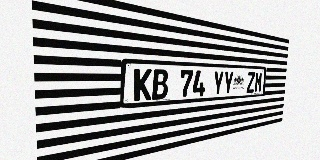4: (193, 70, 206, 97)
7: (179, 70, 193, 98)
B: (152, 69, 168, 100)
K: (134, 68, 152, 101)
M: (254, 72, 263, 92)
Y: (212, 71, 224, 95), (223, 71, 234, 95)
Z: (246, 72, 255, 93)
